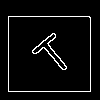T: (25, 25, 77, 79)
